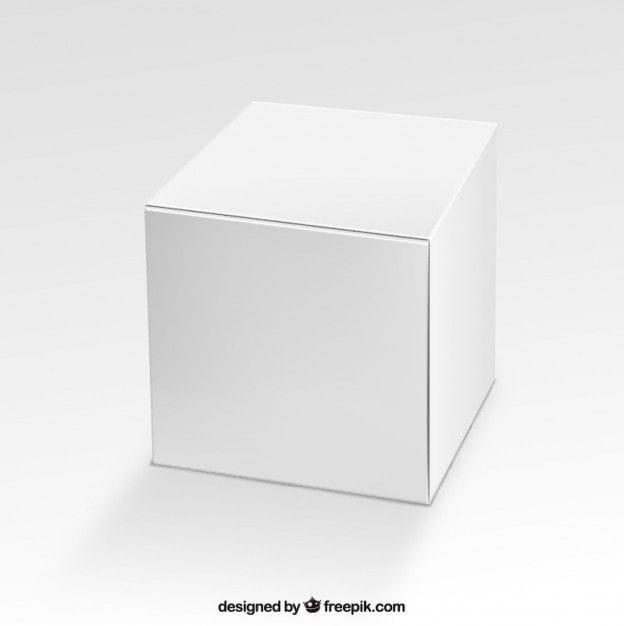cubos: (131, 90, 529, 530)
